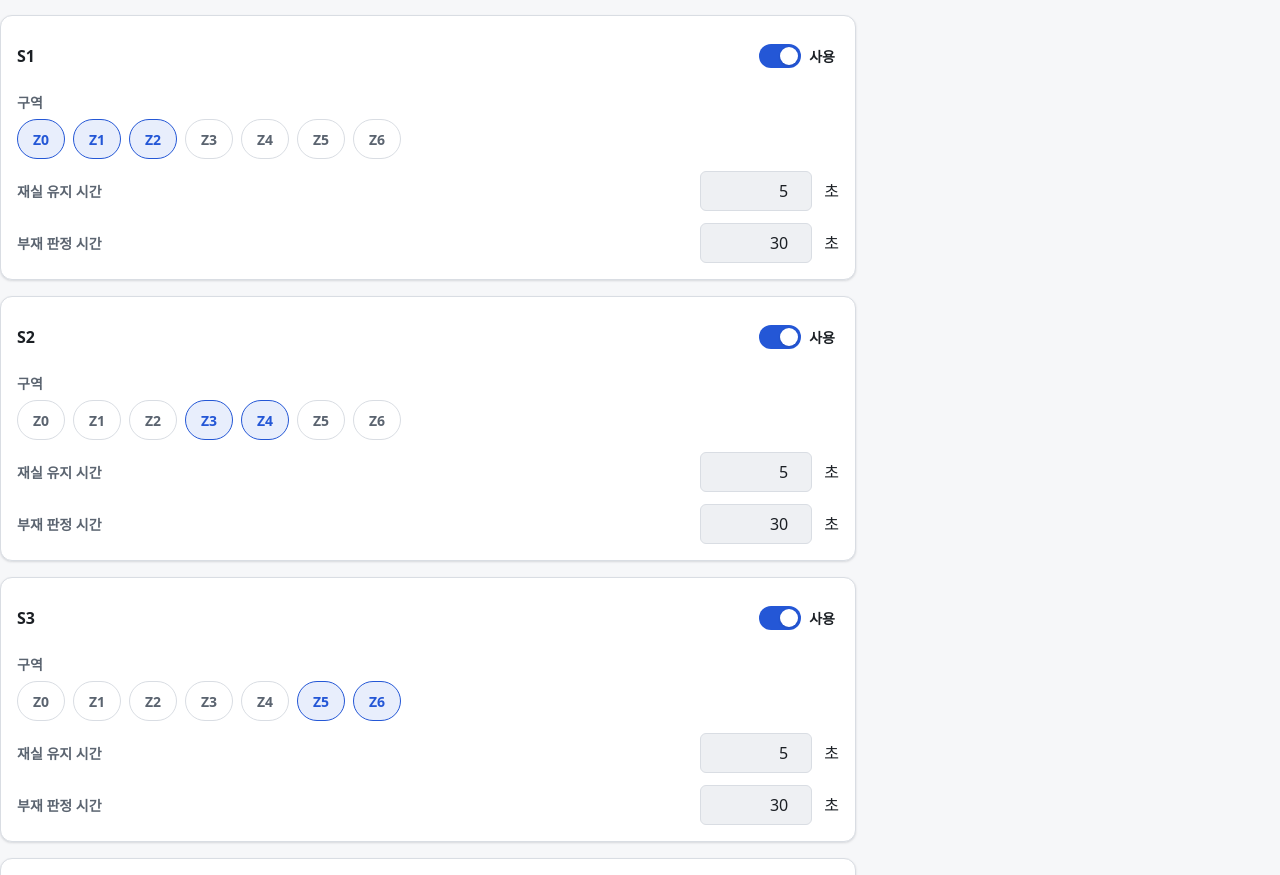
Test: AdvancedTab › timing and DND are in the same draft
Replace the text in the 1st number field labelled "재실 유지 시간" with "10": point(756, 191) [700,171,812,211]
(page scrolled)
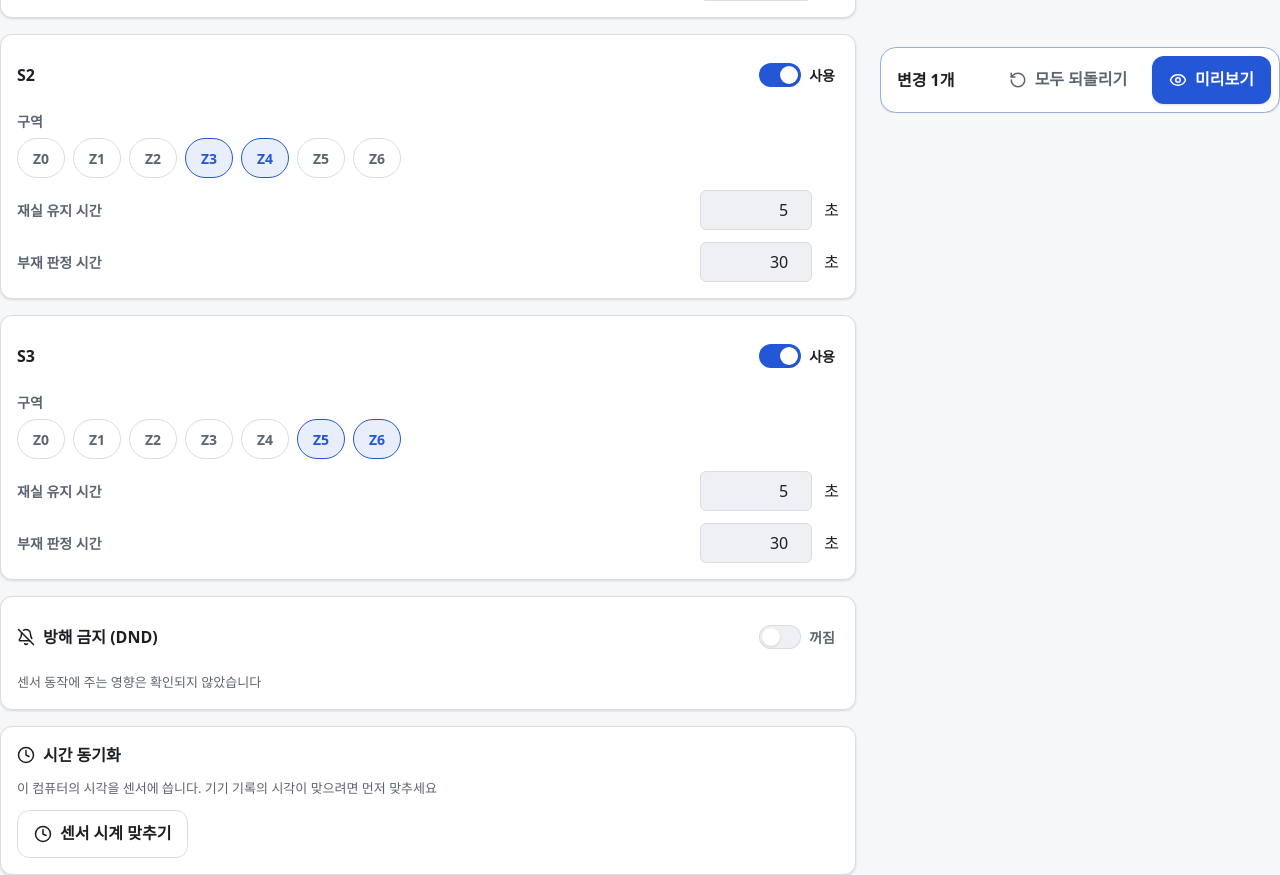
Click the switch named "방해 금지 (DND)": point(797, 637) [755,613,839,661]
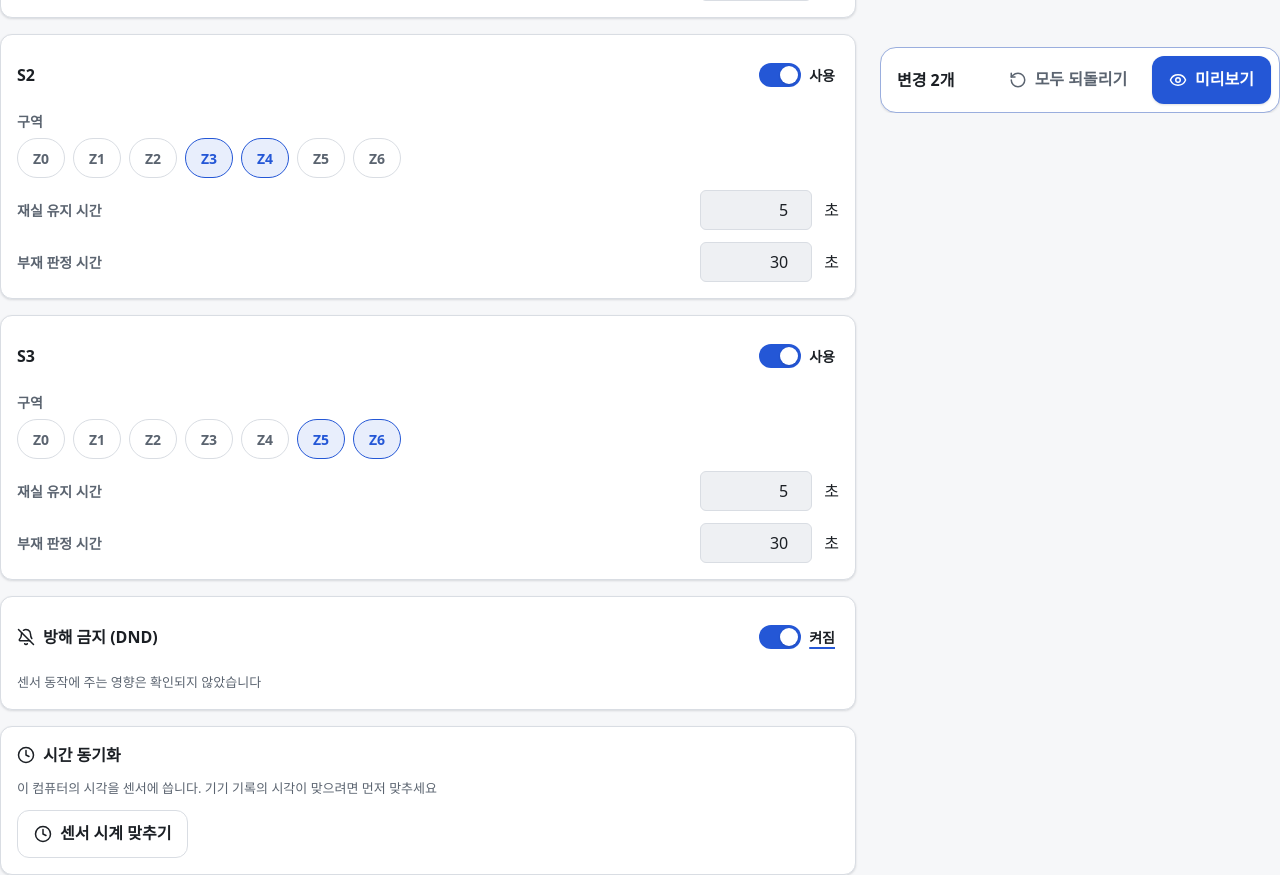
expect the text "변경 2개" is shown: met, box [897,68,954,92]
